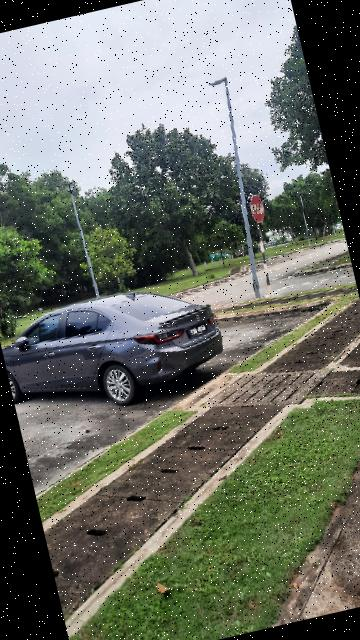License_Plate: (185, 322, 214, 341)
car: (1, 264, 236, 427)
